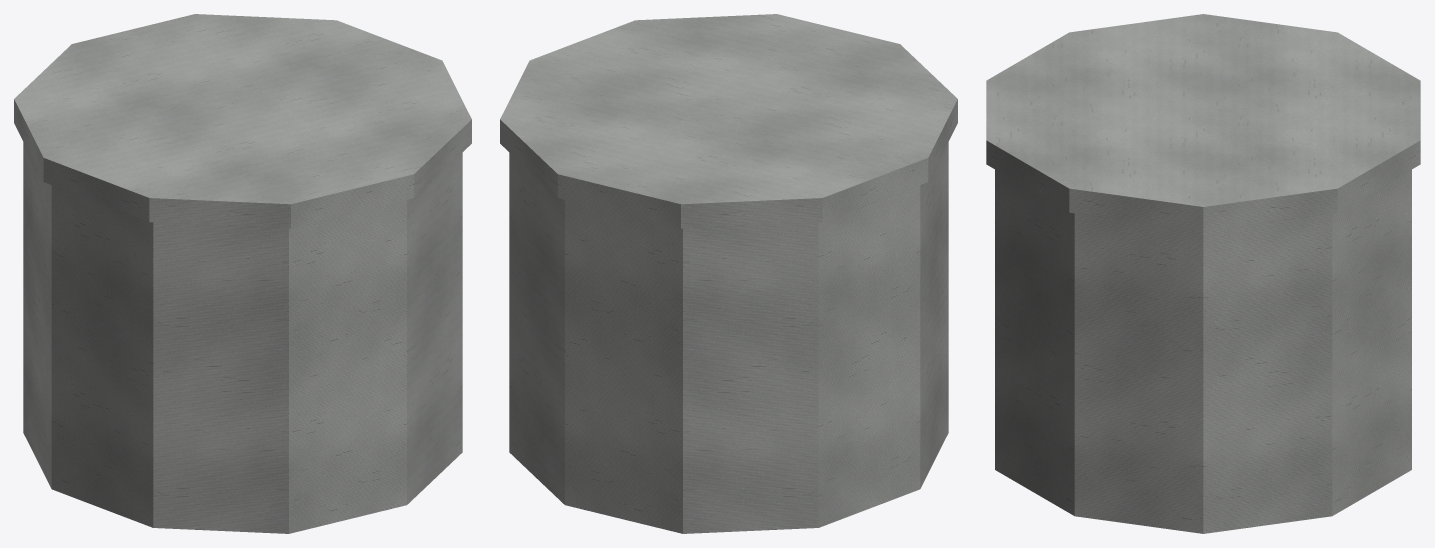
The model's file is bucket.glb.
3 renders of one model, left to right at view 1: azimuth 30°, elevation 25°; view 2: azimuth 150°, elevation 25°; view 3: azimuth 270°, elevation 25°, orthographic.
Parts seen in each view (by area): view 1: NC_bucket; view 2: NC_bucket; view 3: NC_bucket.
Part boxes in pixels (left/top/right/bottom): NC_bucket: left=14, top=14, right=471, bottom=533; NC_bucket: left=500, top=14, right=957, bottom=533; NC_bucket: left=986, top=14, right=1420, bottom=533.
Size of the model in its own units: 0.344 by 0.275 by 0.3272.
Materials: 1 (1 with a texture image).
